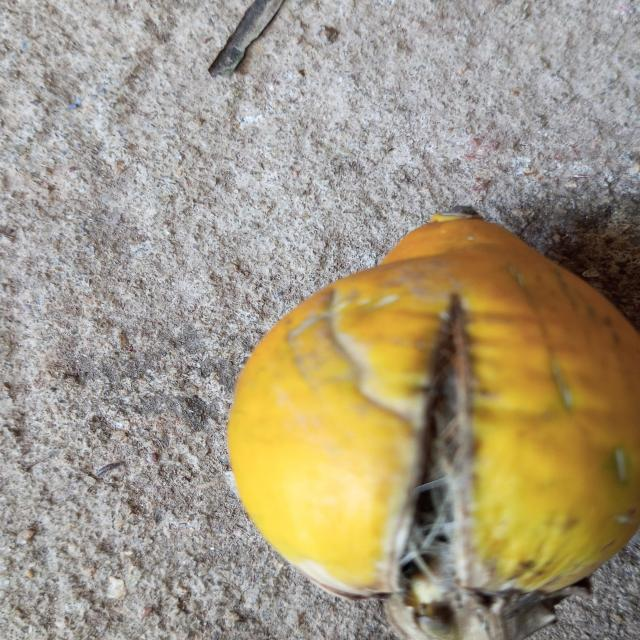damaged: (228, 207, 640, 640)
